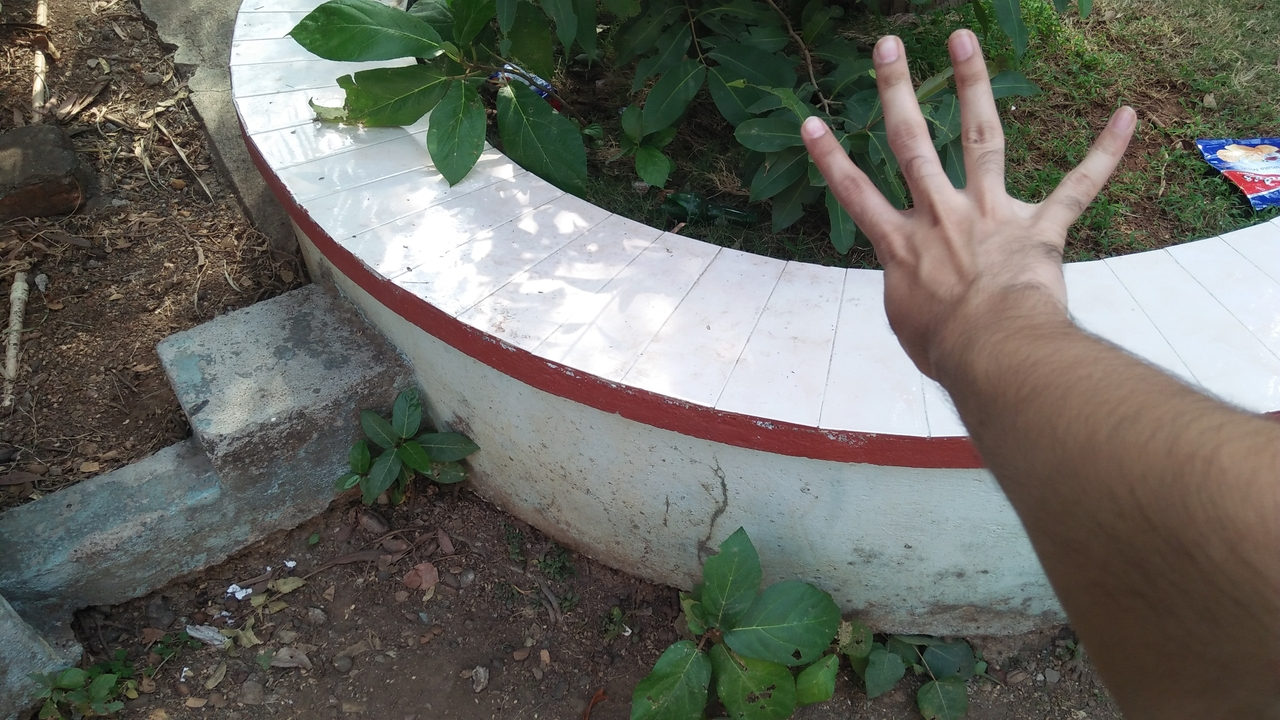fingertip: (792, 104, 844, 152), (1096, 100, 1152, 142), (944, 20, 992, 66), (872, 28, 920, 72)
